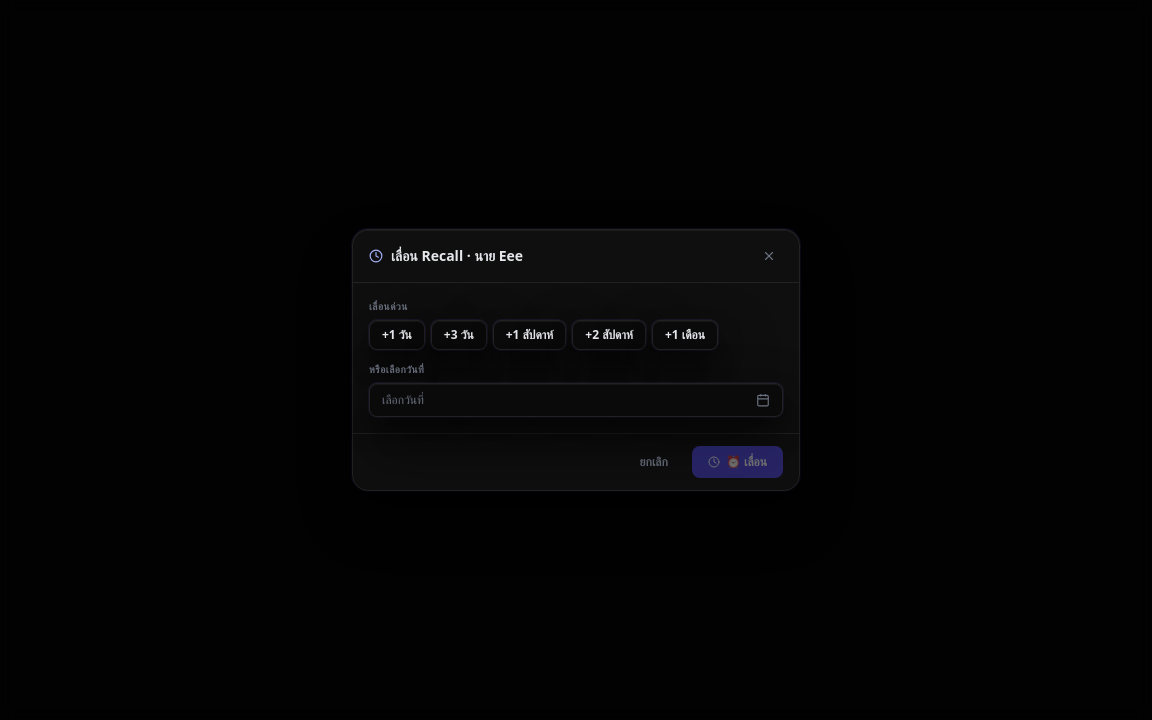
Scenario: Phase 29 · SN3 save dispatch › SN3.3 save failure → error + modal stays open
Click the button with test id "recall-snooze-quick-1".
click(397, 335)  # box [369, 320, 425, 350]
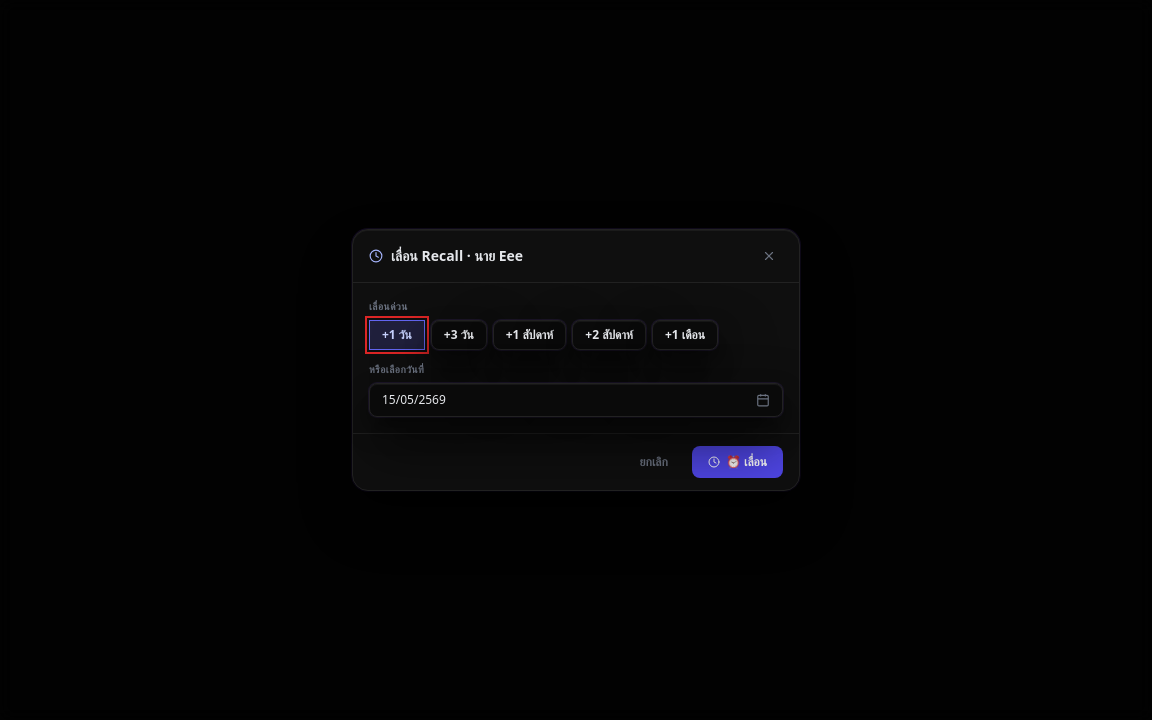
Click the button with test id "recall-snooze-save".
click(737, 462)  # box [692, 446, 783, 478]
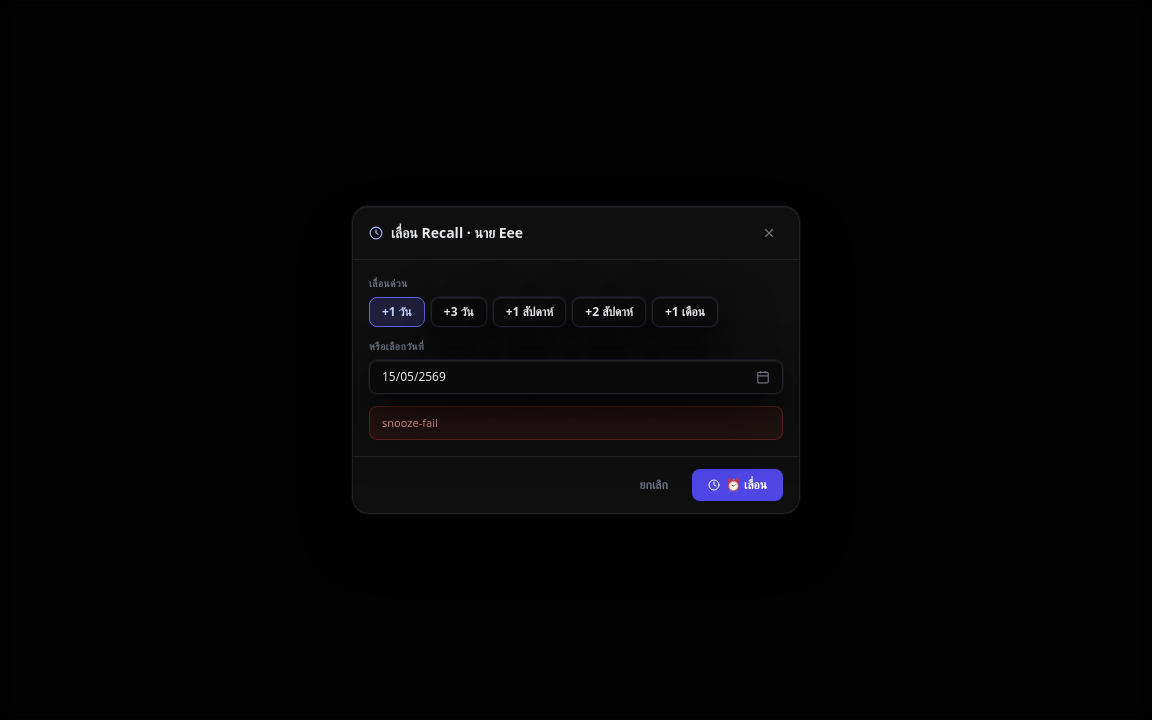
Check: the text with test id "recall-snooze-error" reads "snooze-fail", box [382, 415, 438, 430]
